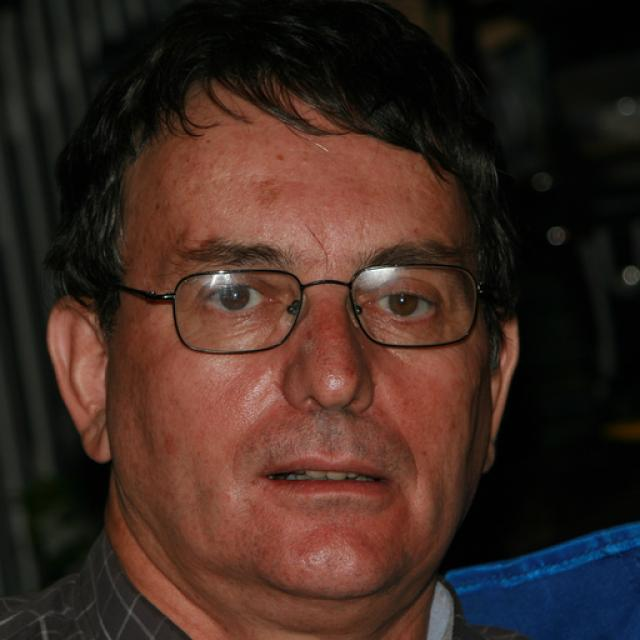Pigmentation: (301, 303, 359, 383), (249, 179, 313, 223)
